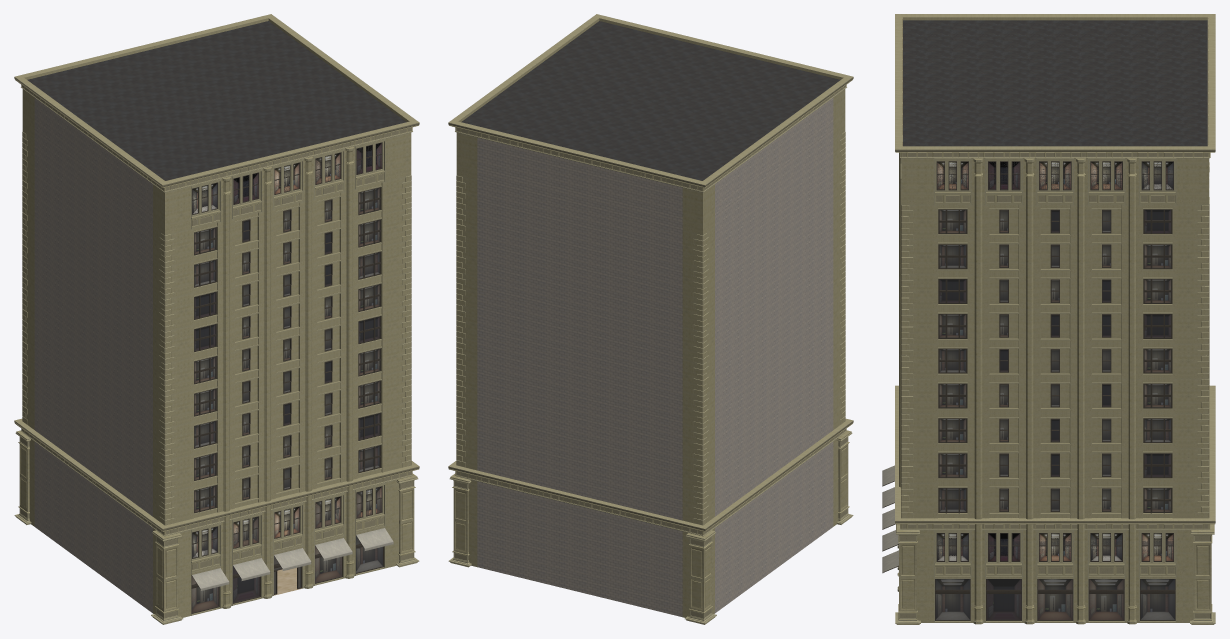
The model's file is Building_Large_1.glb.
3 views of the same model, side by side, from view 1: azimuth 30°, elevation 25°; view 2: azimuth 150°, elevation 25°; view 3: azimuth 270°, elevation 25° (orthographic). The views are drawn at different scales.
Visible parts, largest first — view 1: Building_Large_1; view 2: Building_Large_1; view 3: Building_Large_1.
Boxes of the visible parts, bbox=[...] form: Building_Large_1: bbox=[14, 14, 419, 624]; Building_Large_1: bbox=[448, 14, 853, 624]; Building_Large_1: bbox=[882, 14, 1215, 624].
Size of the model in its own units: 25.04 by 41 by 26.03.
Materials: 11 (10 with a texture image).
